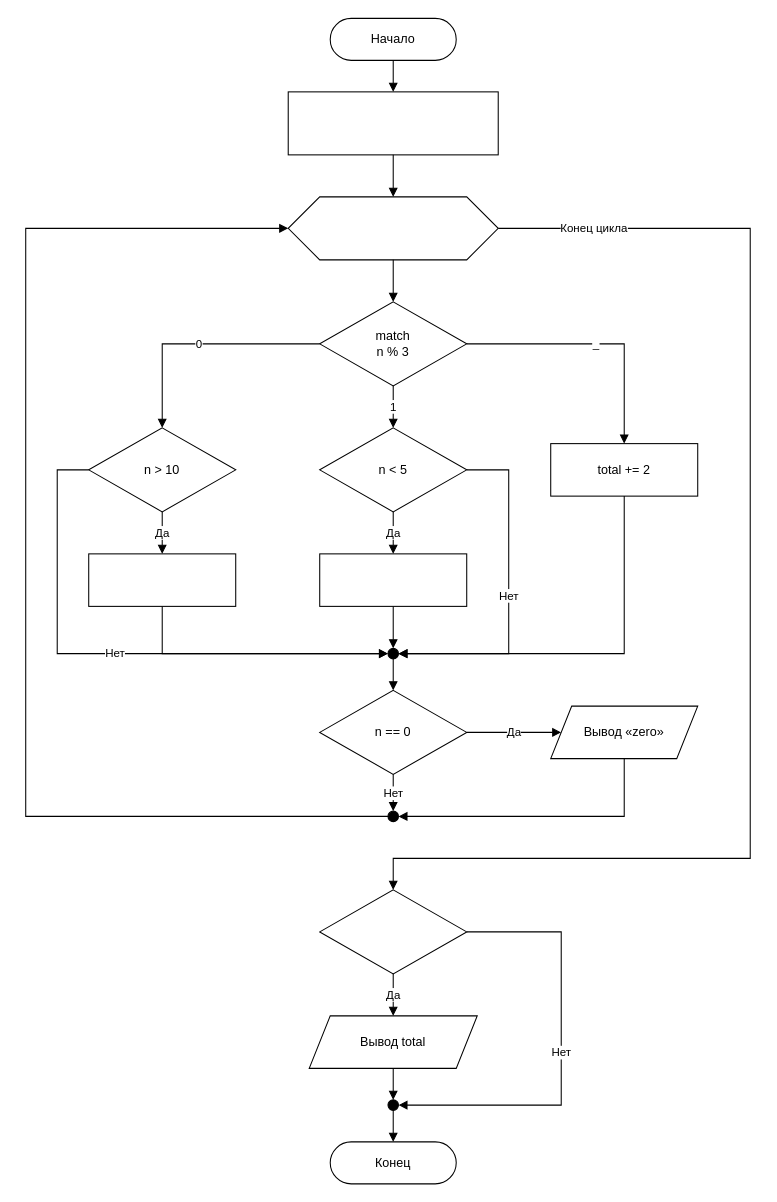
Some shapes in this 777 by 1202 pixel diagram are drawn without their labels. Here are the shapes that lost their labels. From the top down, the centre of each, then its label:
At pixel 392 123: "numbers = [3, 7, 12, 0, 25, 4] total = 0".
At pixel 392 228: "for n in numbers".
At pixel 162 579: "total += n".
At pixel 393 579: "total -= 1".
At pixel 393 931: "total > 20".
